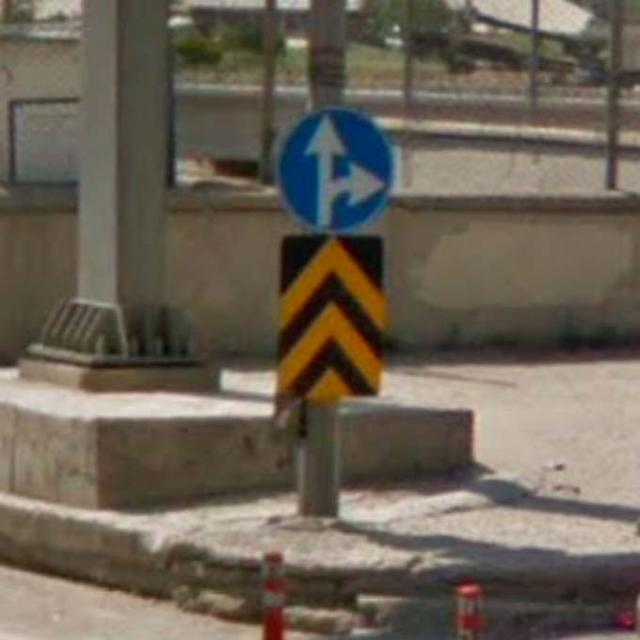ilerisag: (276, 108, 393, 230)
